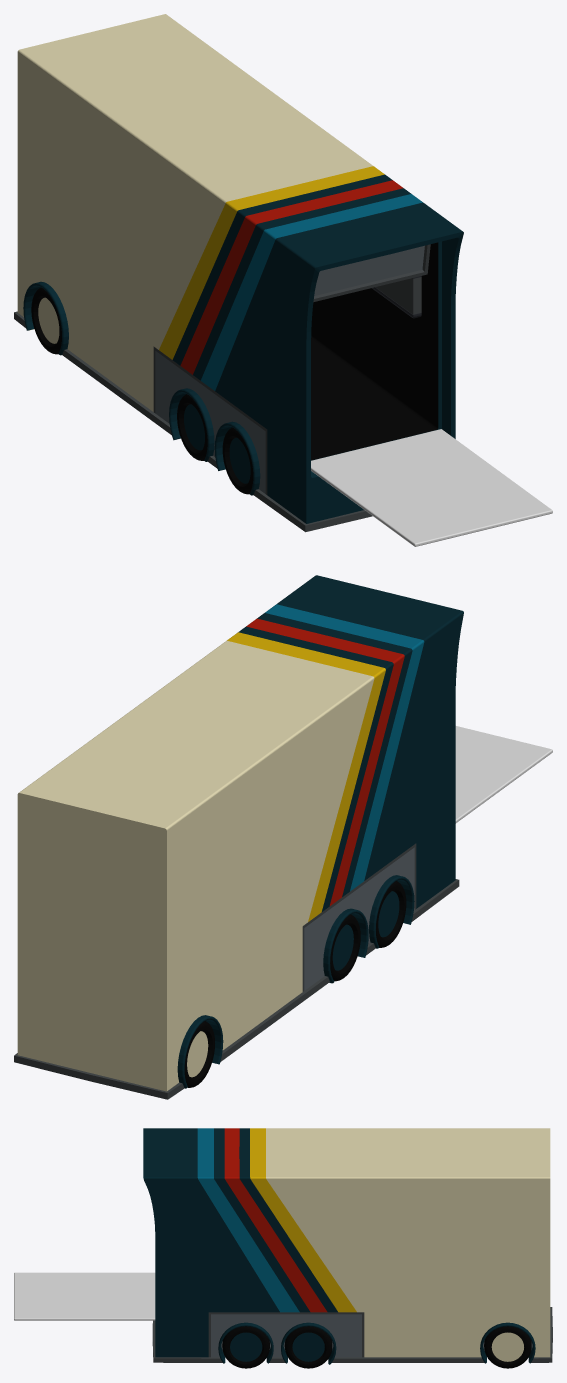
Rendered from Truck.fbx.
The picture shows the model from 3 angles, top to bottom: view 1: azimuth 30°, elevation 25°; view 2: azimuth 150°, elevation 25°; view 3: azimuth 270°, elevation 25°; orthographic projection. The views are drawn at different scales.
Parts seen in each view (by area): view 1: TruckMat, TruckMat.002; view 2: TruckMat, TruckMat.002; view 3: TruckMat, TruckMat.002.
Part boxes in pixels (<box>): TruckMat: <box>14,14,463,532</box>; TruckMat.002: <box>311,429,552,546</box>; TruckMat: <box>14,575,463,1099</box>; TruckMat.002: <box>455,726,552,823</box>; TruckMat: <box>143,1128,552,1368</box>; TruckMat.002: <box>14,1272,155,1320</box>.
Size of the model in its own units: 2.15 by 3.59 by 9.15.
